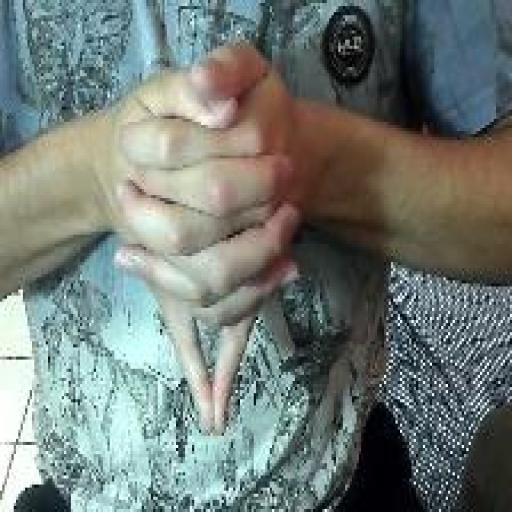Tatsu -dragon-: (108, 33, 308, 439)
